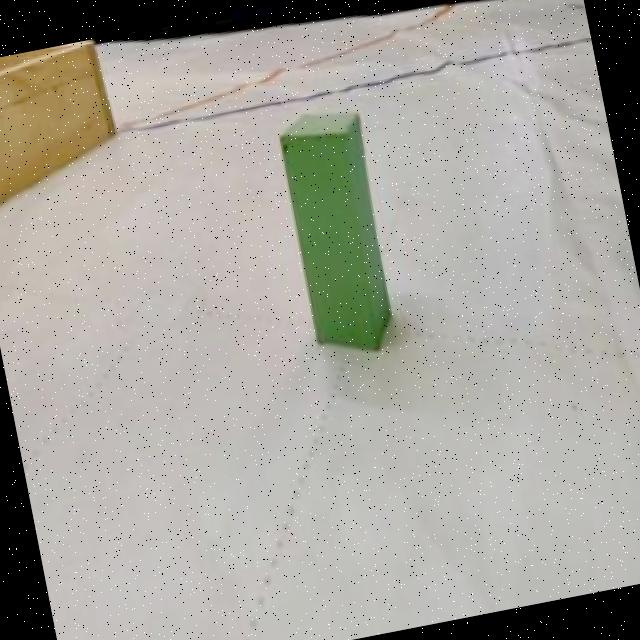greenbox: (269, 99, 406, 361)
